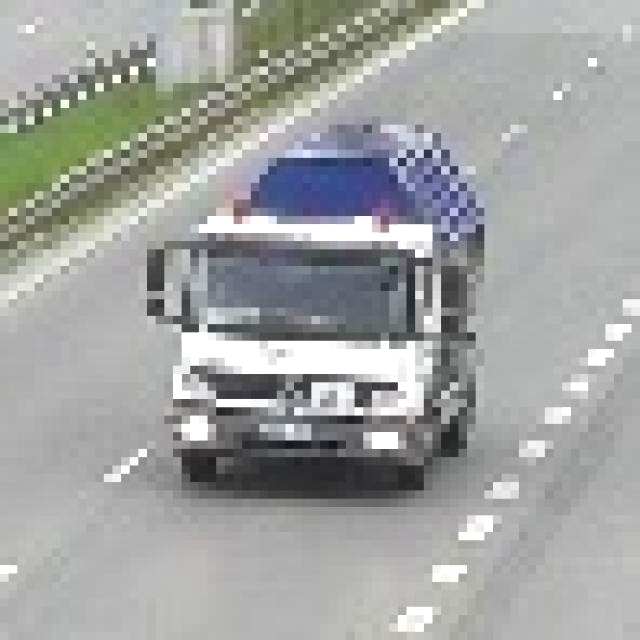truck: (125, 86, 498, 546)
